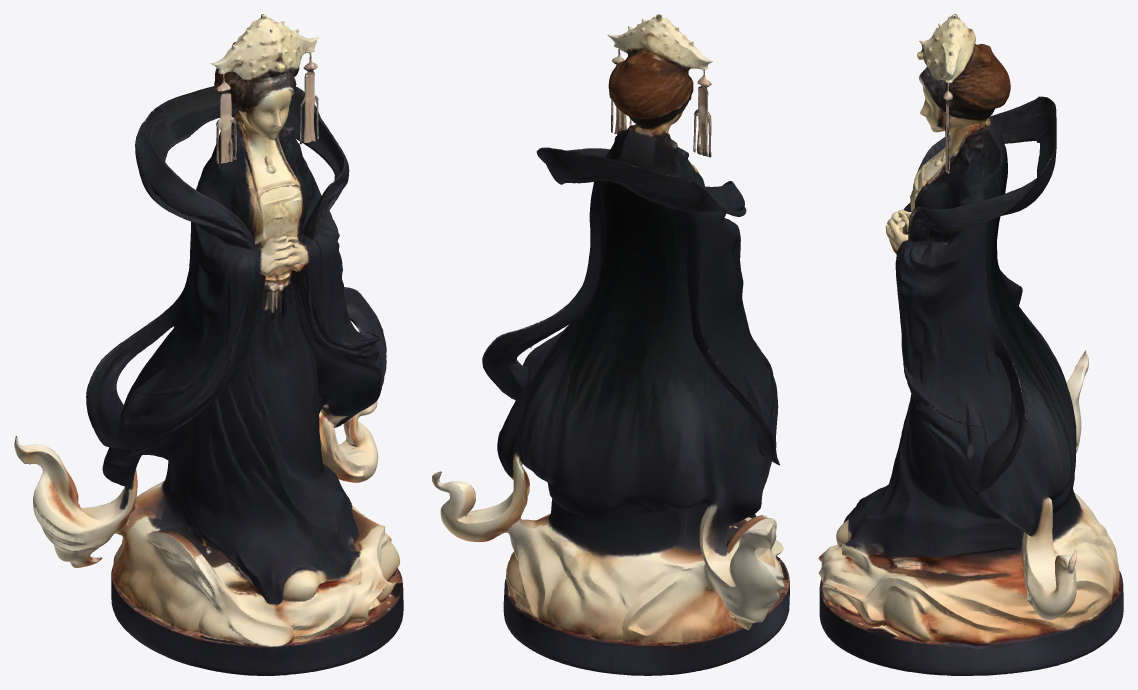
File: queen_black.glb
The picture shows the model from 3 angles, left to right: view 1: azimuth 30°, elevation 25°; view 2: azimuth 150°, elevation 25°; view 3: azimuth 270°, elevation 25°; orthographic projection.
Parts seen in each view (by area): view 1: model; view 2: model; view 3: model.
Part boxes in pixels (x1=…): model: x1=14, y1=14, x2=403, y2=675; model: x1=432, y1=14, x2=789, y2=675; model: x1=818, y1=14, x2=1123, y2=675.
Size of the model in its own units: 1.17 by 1.9 by 0.8702.
Materials: 1 (1 with a texture image).
